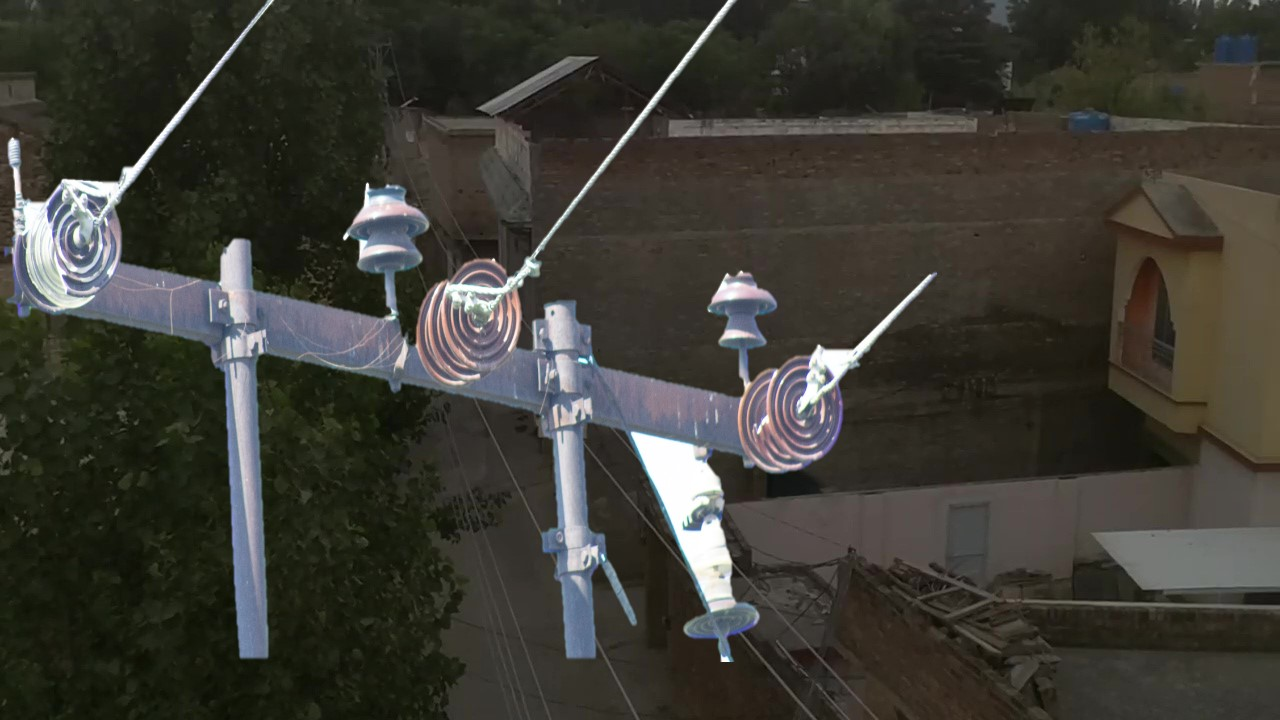defect_disc: (38, 171, 126, 294)
insulator_disc: (439, 248, 525, 380), (765, 349, 849, 462)
